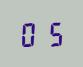five: (41, 20, 62, 46)
zero: (19, 20, 40, 47)
